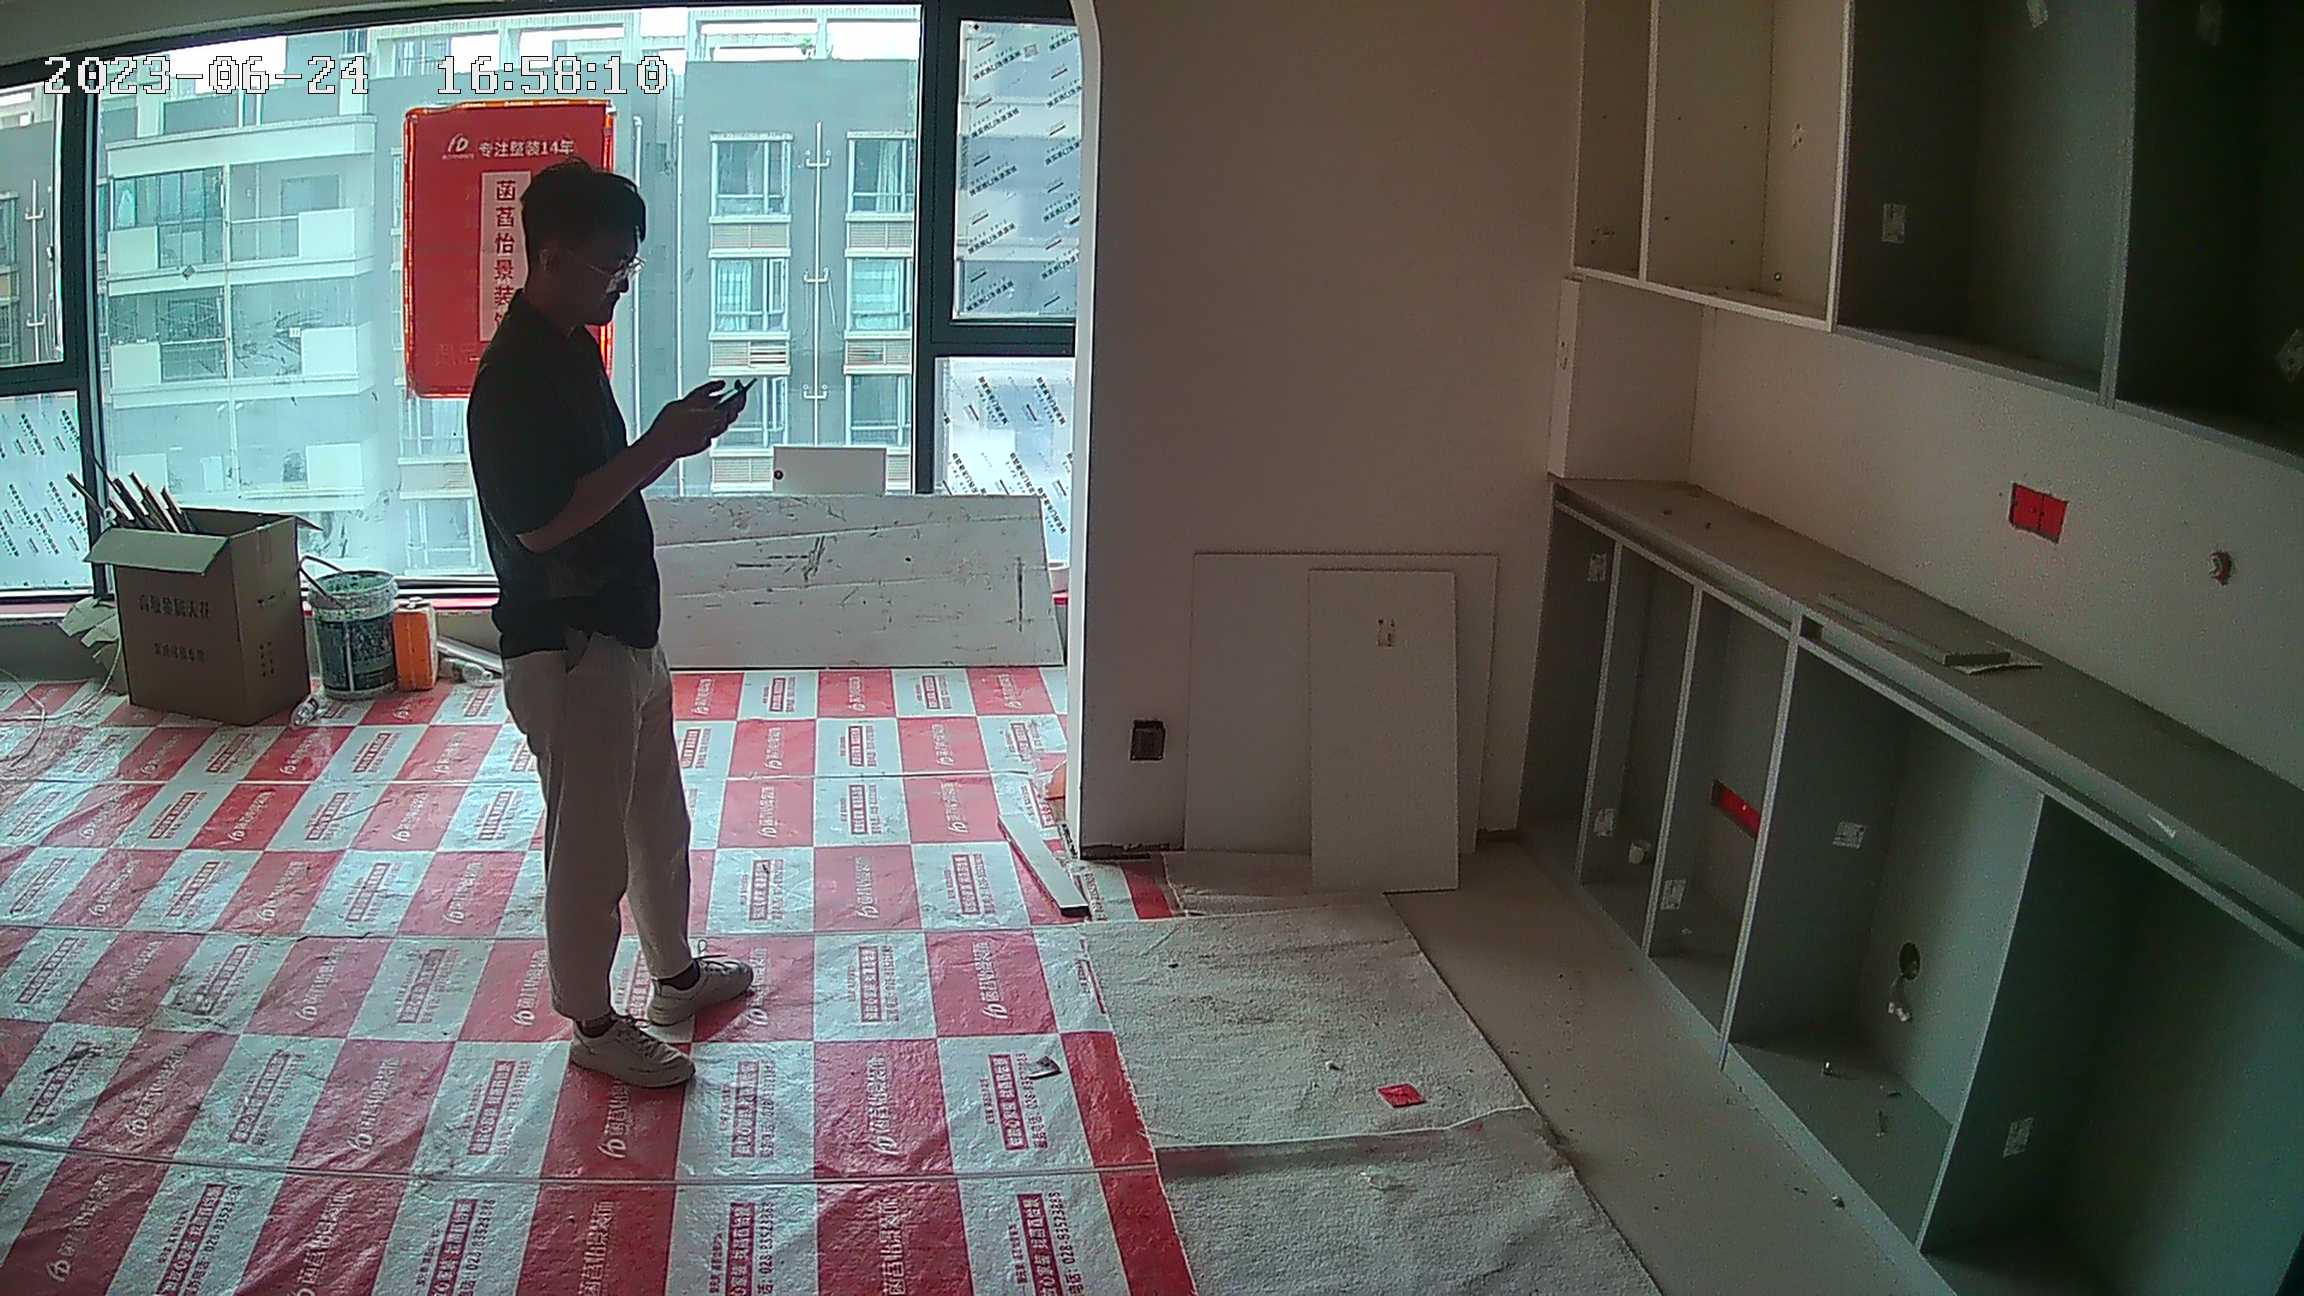people: (434, 152, 771, 1092)
window: (4, 13, 1089, 592)
